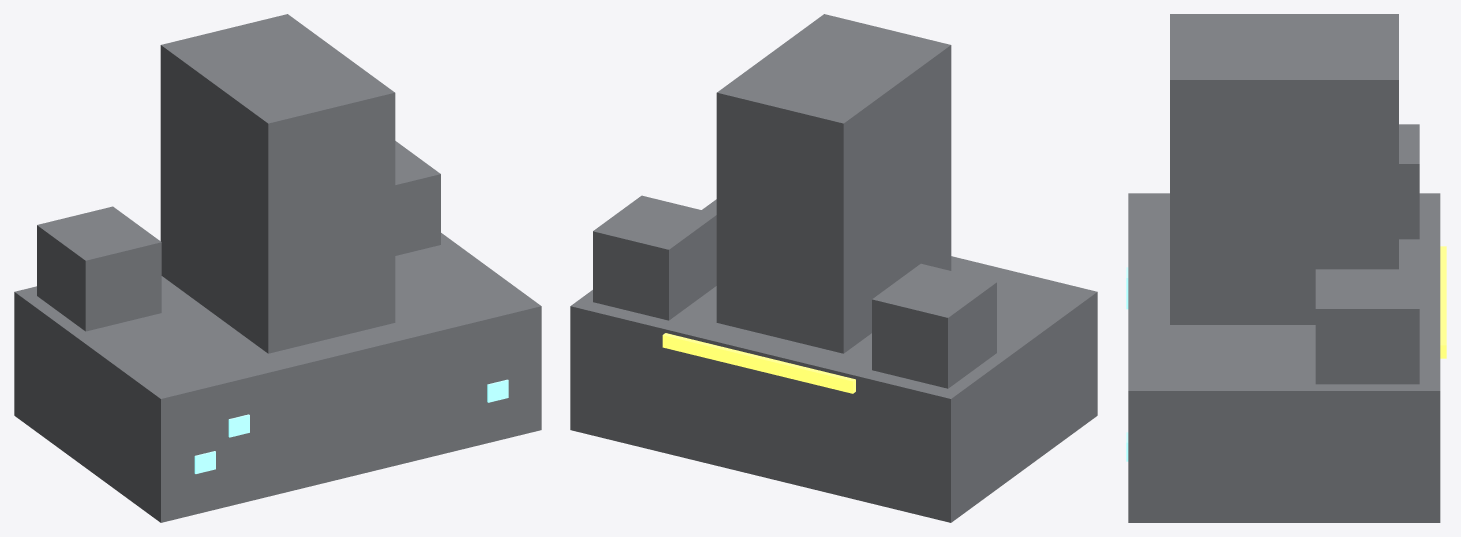
Rendered from city_hall_lod1-DIO7HB4A.glb.
The picture shows the model from 3 angles, left to right: view 1: azimuth 30°, elevation 25°; view 2: azimuth 150°, elevation 25°; view 3: azimuth 270°, elevation 25°; orthographic projection. The views are drawn at different scales.
Parts seen in each view (by area): view 1: body, window; view 2: body, sign; view 3: body, sign.
Part boxes in pixels (left/top/right/bottom): body: left=14, top=14, right=541, bottom=522; window: left=194, top=379, right=508, bottom=473; body: left=570, top=14, right=1097, bottom=522; sign: left=662, top=333, right=855, bottom=393; body: left=1128, top=14, right=1440, bottom=522; sign: left=1440, top=246, right=1446, bottom=358.
Size of the model in its own units: 0.9 by 0.8 by 0.616.
